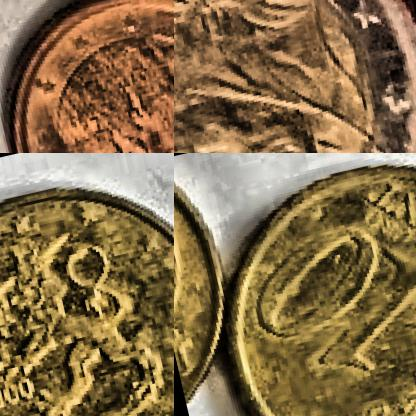coin: (192, 153, 415, 415), (0, 159, 173, 415), (174, 0, 415, 152), (0, 0, 173, 152)
